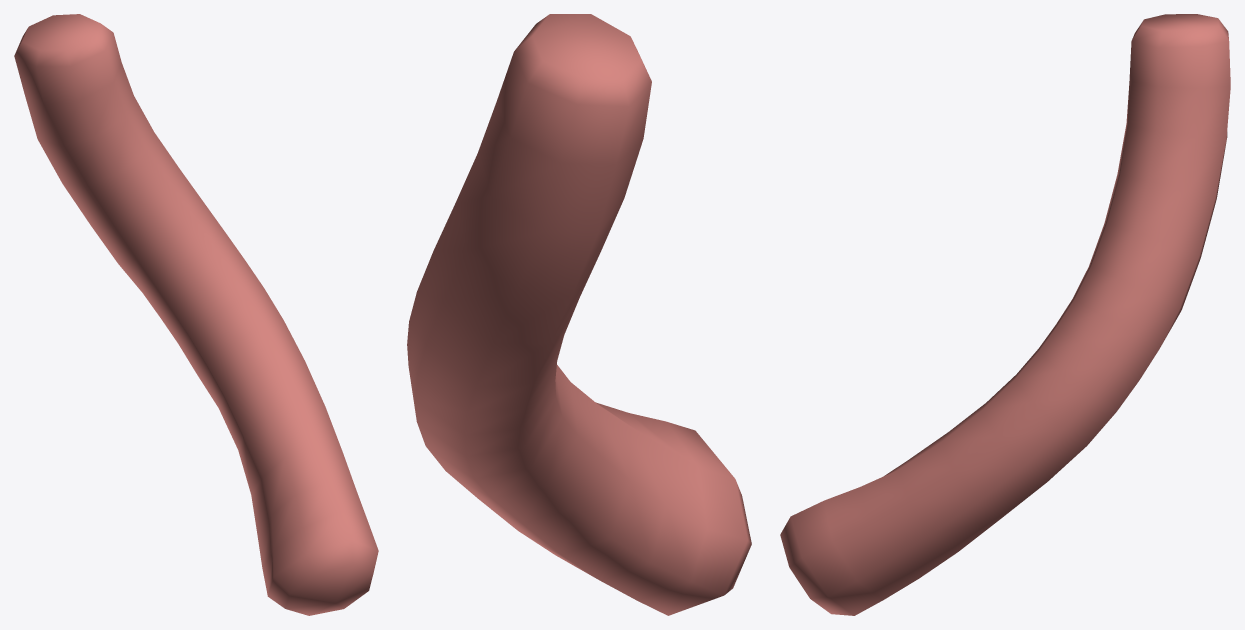
3 renders of one model, left to right at view 1: azimuth 30°, elevation 25°; view 2: azimuth 150°, elevation 25°; view 3: azimuth 270°, elevation 25°, orthographic. The views are drawn at different scales.
Visible parts, largest first — view 1: ZA_bfb4bb3694f26705; view 2: ZA_bfb4bb3694f26705; view 3: ZA_bfb4bb3694f26705.
Boxes of the visible parts, x1,y1,x2,y2 form: ZA_bfb4bb3694f26705: [14, 14, 378, 615]; ZA_bfb4bb3694f26705: [407, 14, 751, 615]; ZA_bfb4bb3694f26705: [780, 14, 1230, 615].
Size of the model in its own units: 0.017 by 0.0396 by 0.03.
